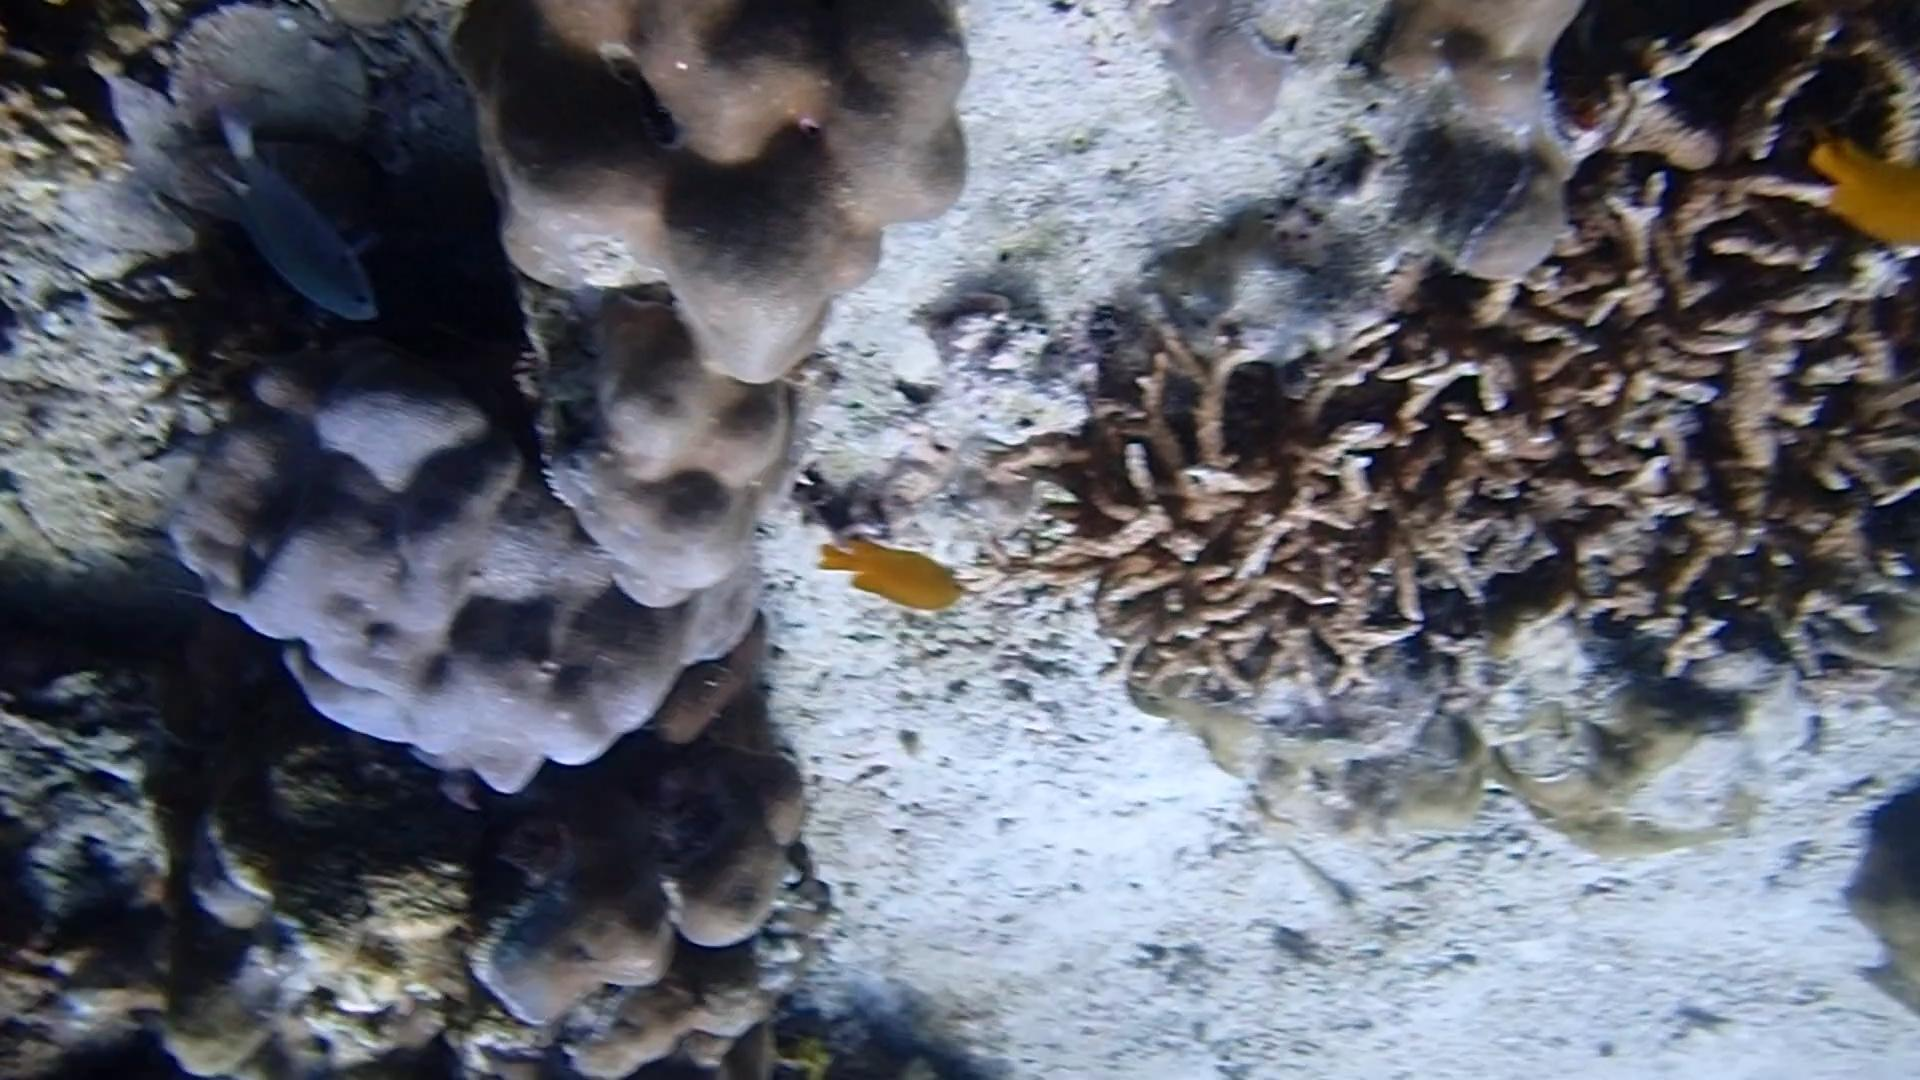Blue Fish Two: (199, 103, 394, 342)
Yellow Fish: (1800, 131, 1920, 272), (810, 531, 971, 620)
